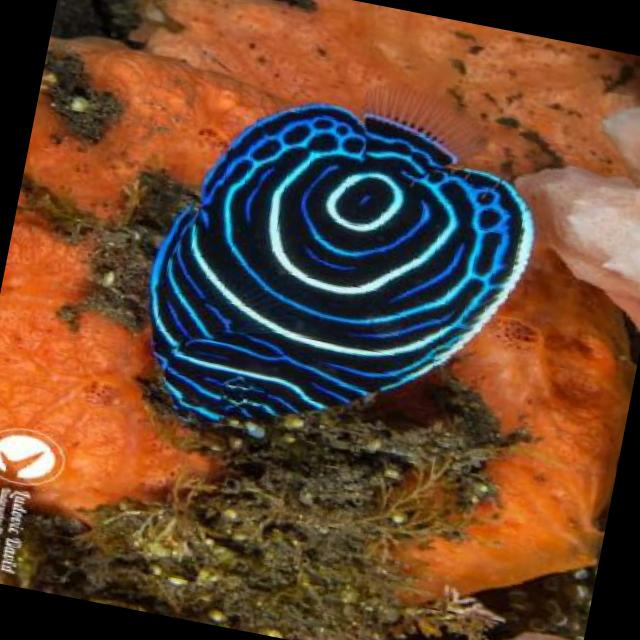AngelFish: (112, 38, 558, 480)
